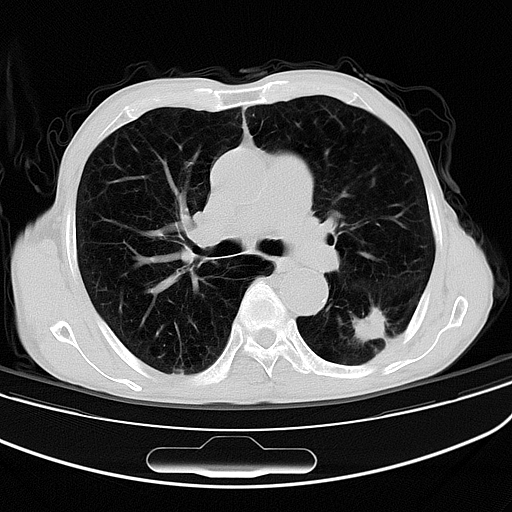nodule: (348, 307, 387, 341)
